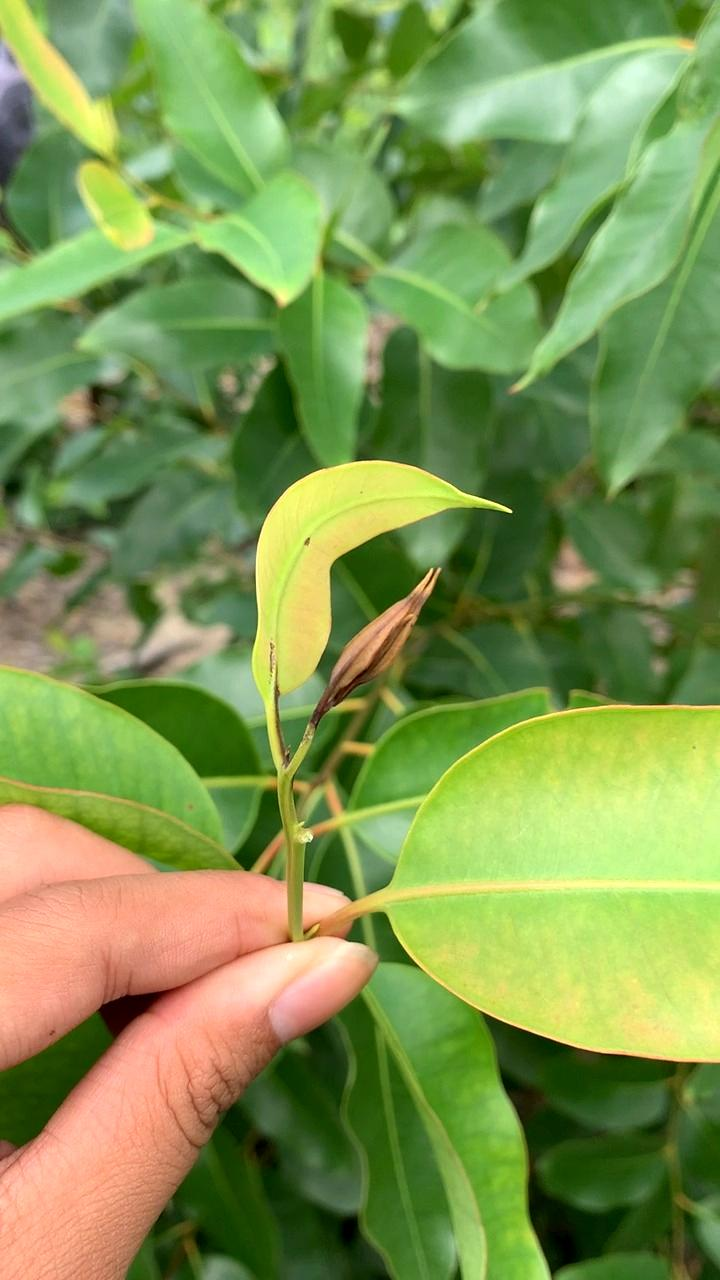Helopeltis-Withered Sprout: (299, 560, 463, 747)
